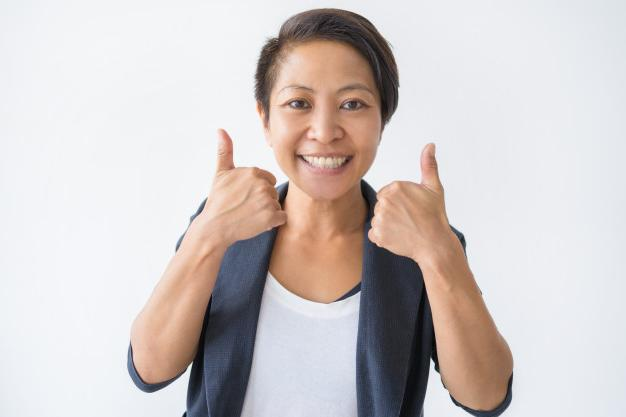thumbsup: (367, 142, 438, 246), (216, 128, 288, 226)
